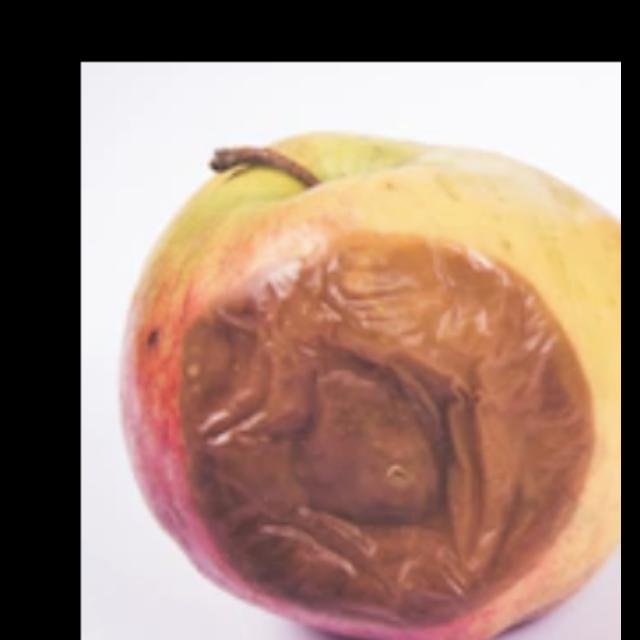Apel Tidak Segar: (110, 126, 622, 640)
